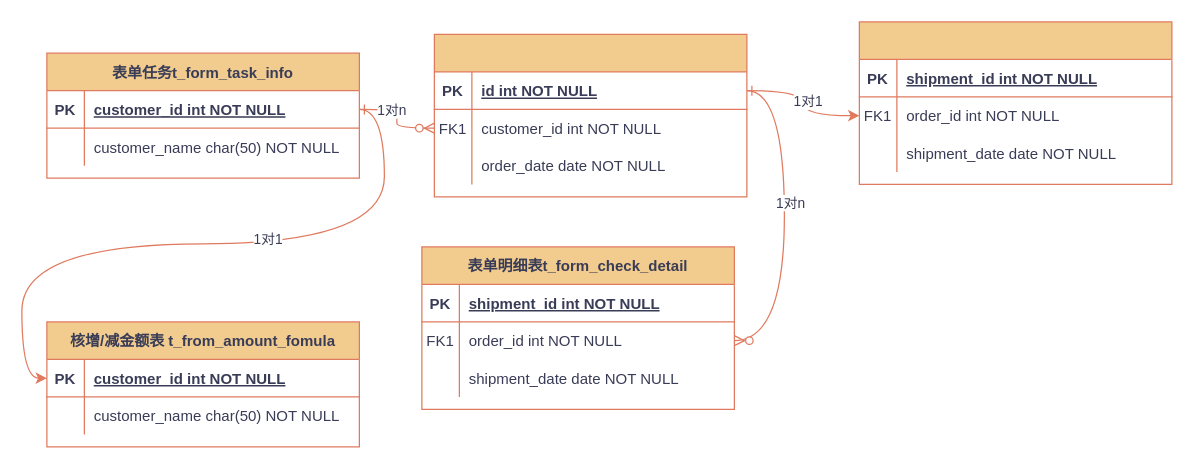
This 1194x469 diagram has some shape labels left out. Here are the shapes that lost their labels. From the top down, the box of each, then its label:
(433, 33, 747, 197): 表单信息t_form_info
(858, 21, 1172, 184): 流程节点设置表t_from_process_setting
